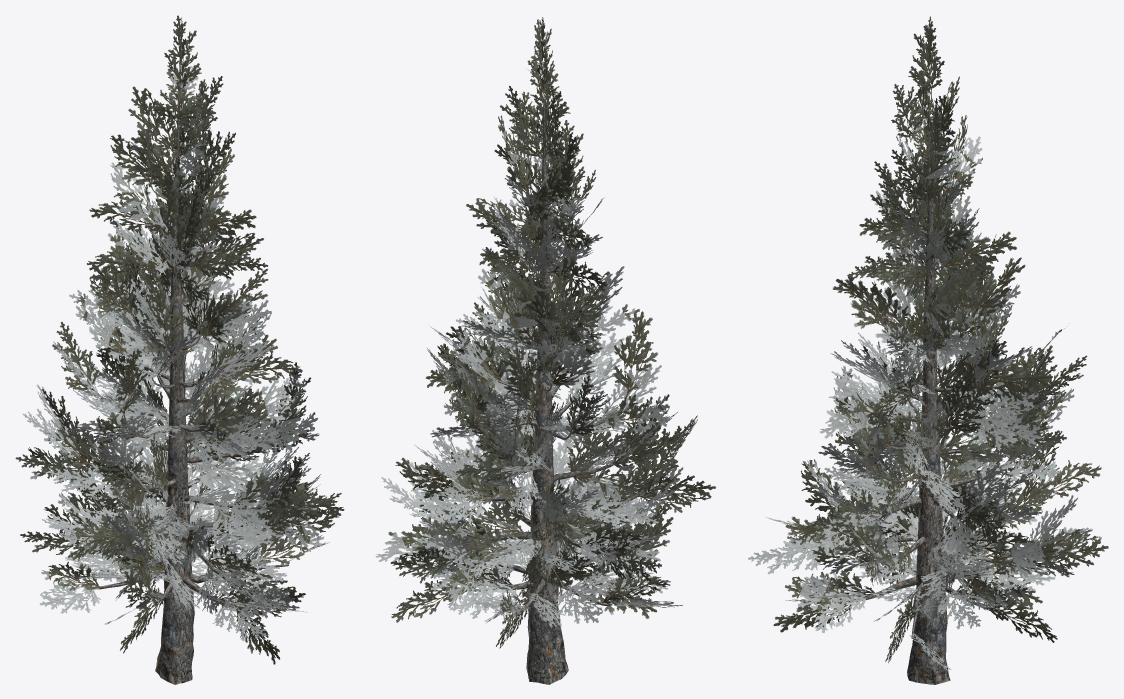
The model's file is Spruce_Winter.fbx.
3 views of the same model, side by side, from view 1: azimuth 30°, elevation 25°; view 2: azimuth 150°, elevation 25°; view 3: azimuth 270°, elevation 25° (orthographic).
Parts seen in each view (by area): view 1: Spruce_Winter_LOD0; view 2: Spruce_Winter_LOD0; view 3: Spruce_Winter_LOD0.
Boxes of the visible parts, box(x1,y1,x2,y2) form: Spruce_Winter_LOD0: box(15, 15, 344, 684); Spruce_Winter_LOD0: box(375, 17, 715, 684); Spruce_Winter_LOD0: box(748, 16, 1108, 684).
Size of what is drawn, in the model's own units: 9.76 by 20.42 by 10.15.
